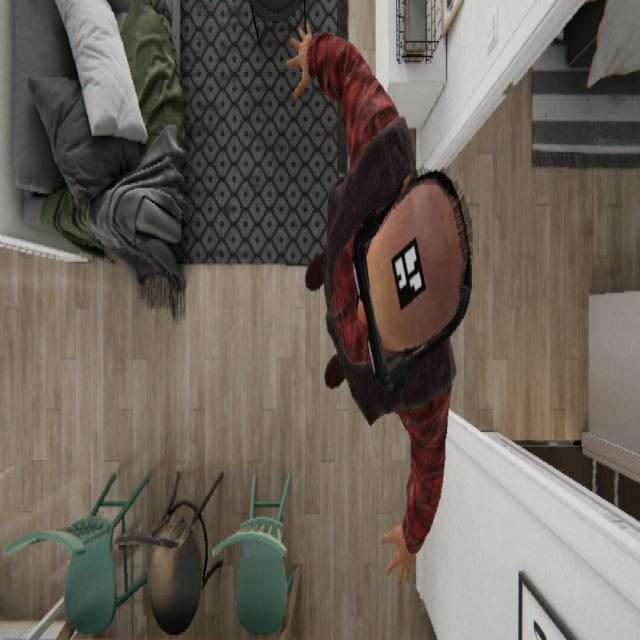AruCO: (389, 234, 427, 311)
Human: (284, 16, 473, 586)
